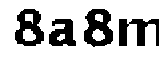8: (12, 5, 45, 49), (84, 7, 115, 51)
a: (49, 15, 81, 53)
m: (117, 13, 160, 50)
